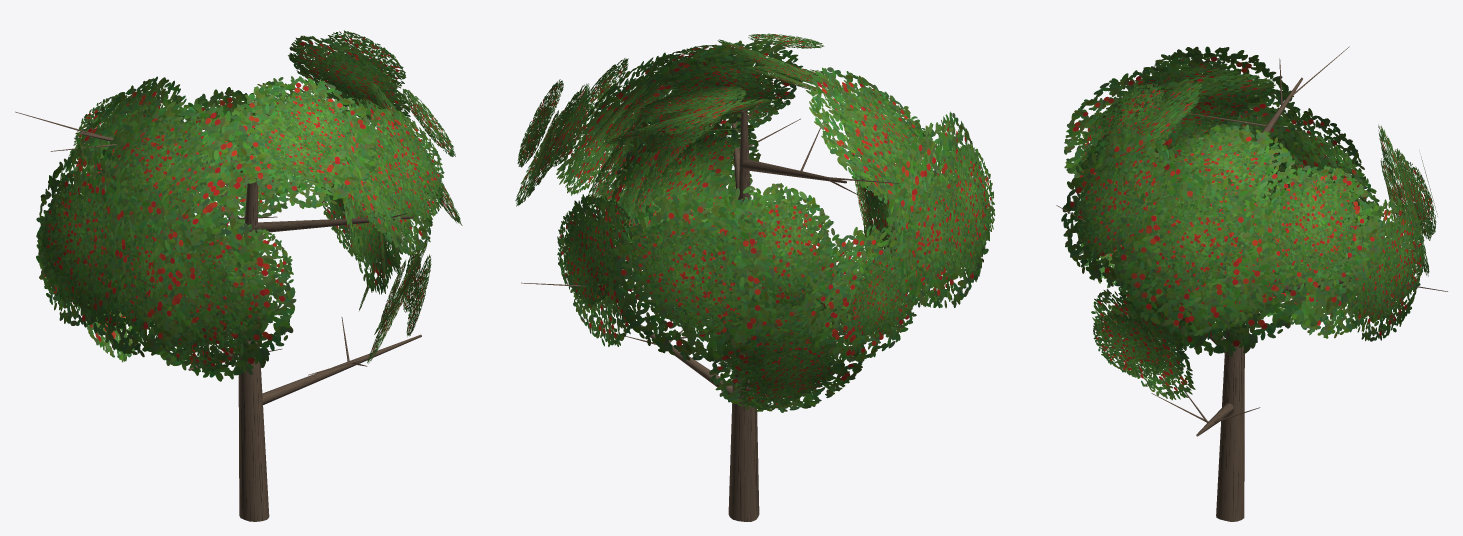
Rendered from Apple_LOD0.fbx.
The picture shows the model from 3 angles, left to right: view 1: azimuth 30°, elevation 25°; view 2: azimuth 150°, elevation 25°; view 3: azimuth 270°, elevation 25°; orthographic projection. The views are drawn at different scales.
Parts seen in each view (by area): view 1: Apple_LOD0; view 2: Apple_LOD0; view 3: Apple_LOD0.
Boxes of the visible parts, x1=… form: Apple_LOD0: x1=15, y1=30, x2=462, y2=521; Apple_LOD0: x1=515, y1=33, x2=995, y2=521; Apple_LOD0: x1=1056, y1=46, x2=1447, y2=521.
Size of the model in its own units: 5.75 by 6.06 by 5.18.
Materials: 1 (1 with a texture image).
